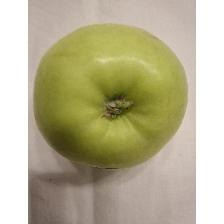Apfel: (32, 20, 190, 172)
